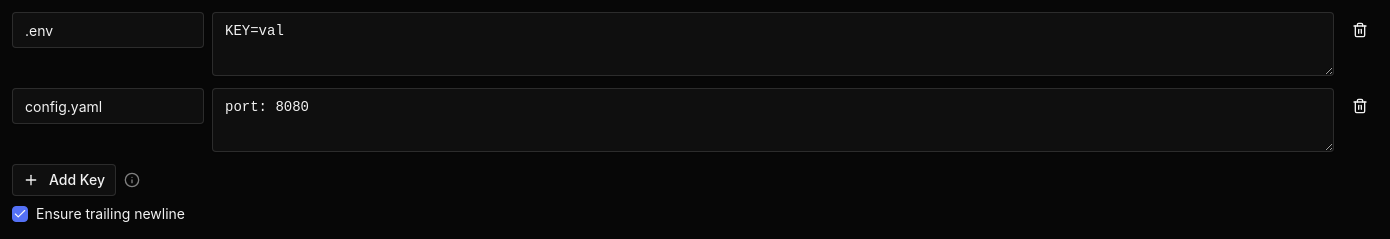
Scenario: SecretDataEditor › shows error helper text for duplicate keys
This screenshot has width=1390, height=239.
// Rename second file to match first
Replace the text in the 2nd field with placeholder "key" with ".env": (108, 106) [12,88,204,124]
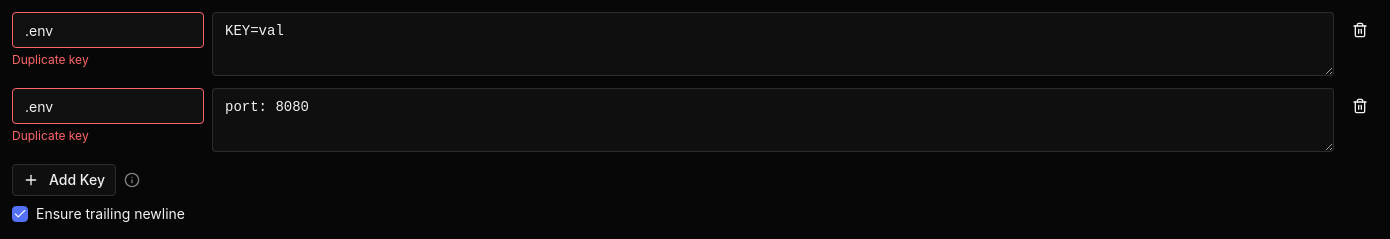
expect the text "Duplicate key" is shown 2 times: met, box [12,52,89,67]; [12,128,89,143]
